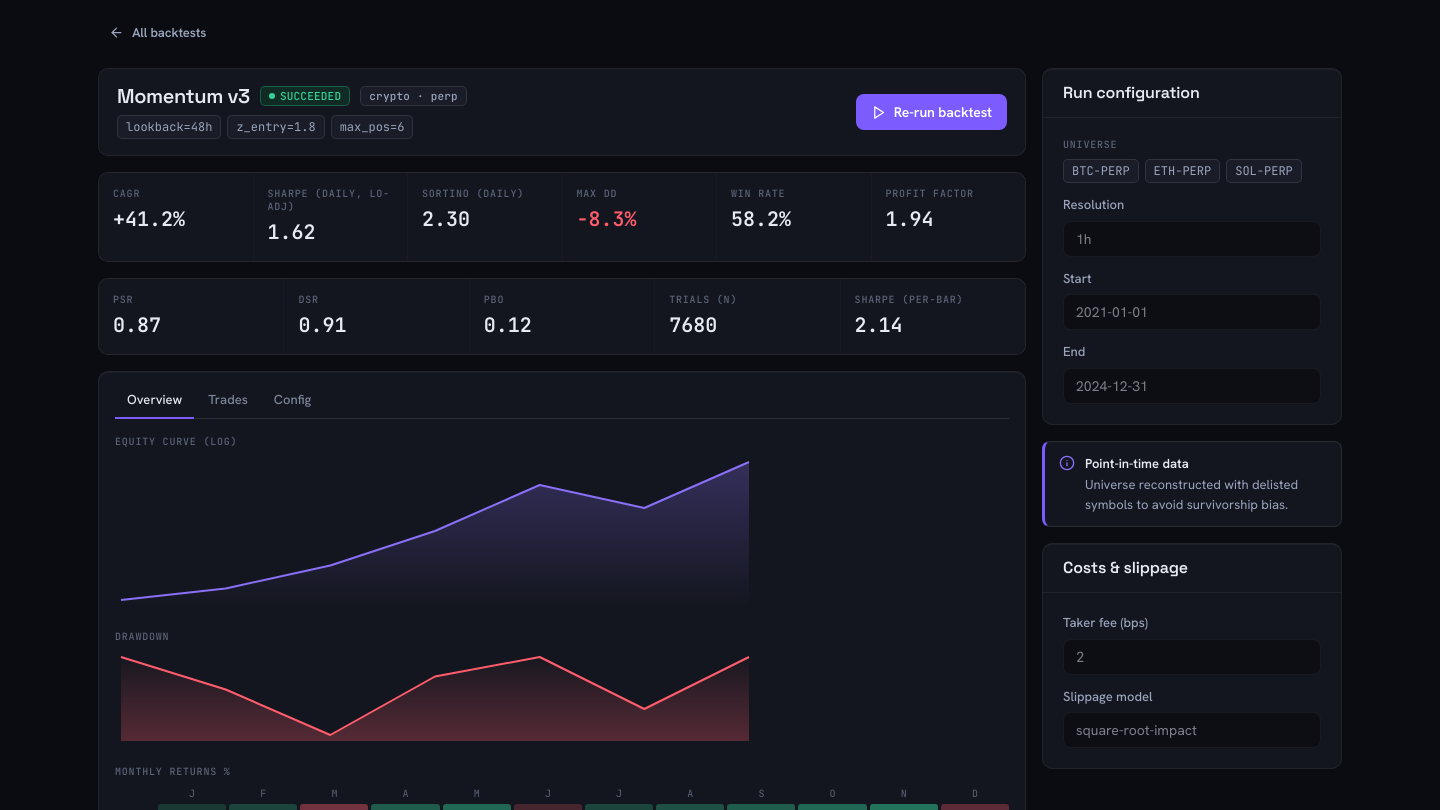
Test: BacktestResult › renders genome params read-only (tags in the header, no editable inputs)
Expected: the text "lookback=48h" is shown, [117,115,221,139]
Expected: the text "z_entry=1.8" is shown, [227,115,325,139]
Click the tab "Config" at (293, 400), box [262,382,323,419]
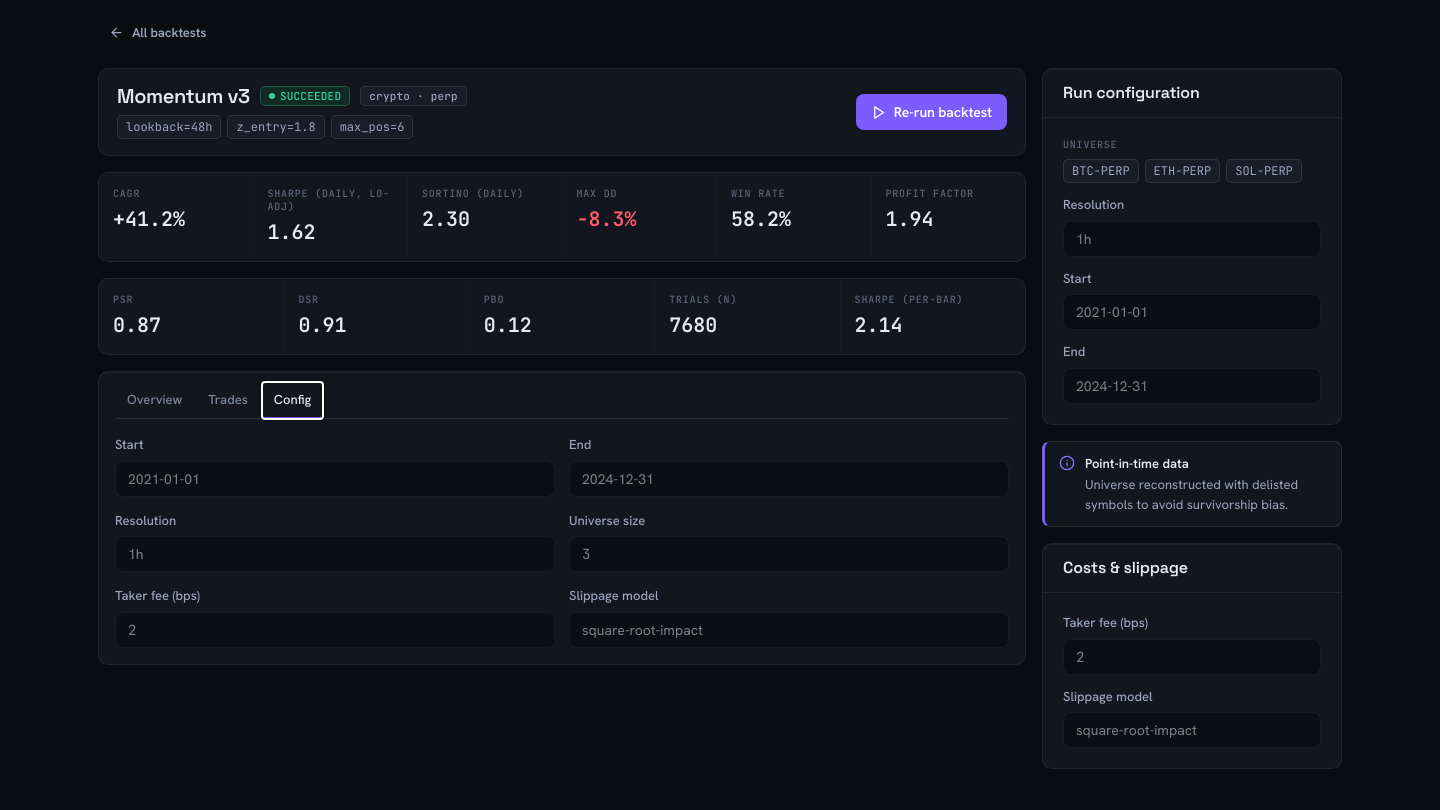
Expected: the field labelled "Start" below "BTC-PERP" is disabled, [1074,295,1310,329]
Expected: the field labelled "Start" below "0.87" is disabled, [126,462,544,496]
